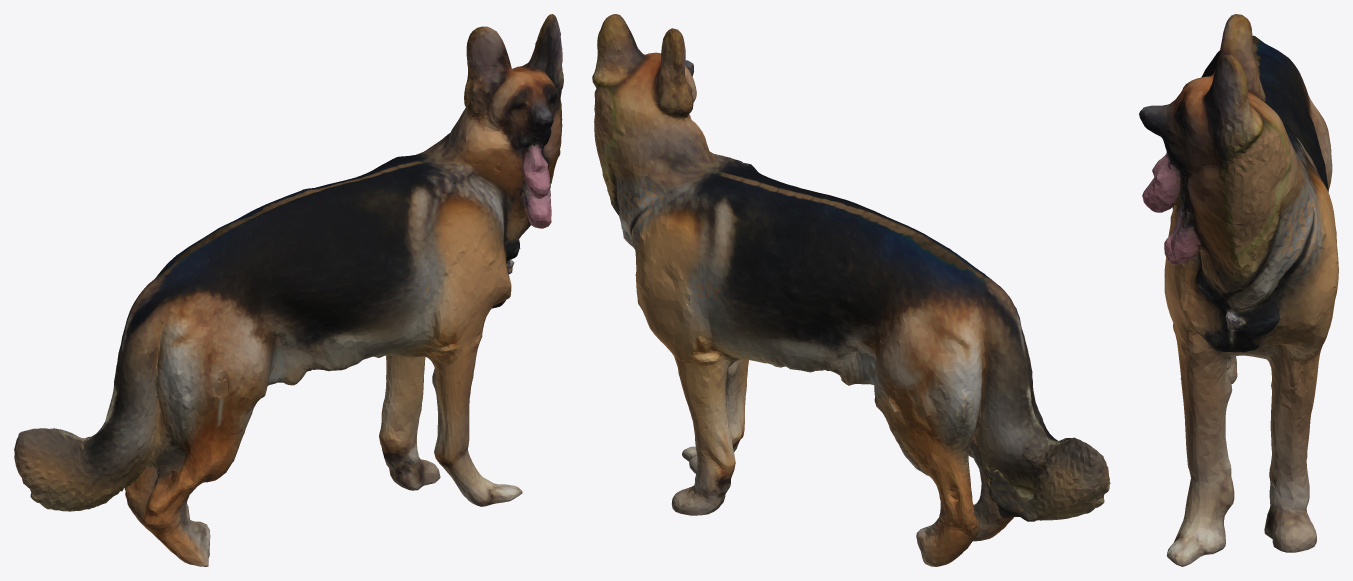
File: afu-v2.glb
The picture shows the model from 3 angles, left to right: view 1: azimuth 30°, elevation 25°; view 2: azimuth 150°, elevation 25°; view 3: azimuth 270°, elevation 25°; orthographic projection. The views are drawn at different scales.
Visible parts, largest first — view 1: geometry_0; view 2: geometry_0; view 3: geometry_0.
Boxes of the visible parts, <box> form: geometry_0: <box>14,14,563,566</box>; geometry_0: <box>592,14,1110,566</box>; geometry_0: <box>1139,14,1338,566</box>.
Bounding box in the file's own units: 0.9796 × 0.8076 × 0.2652.
1 material, 1 textured.
